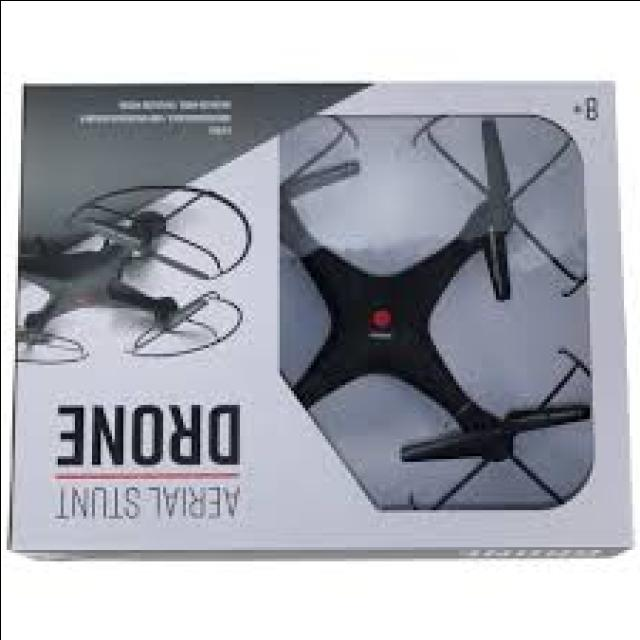drone: (212, 108, 598, 523), (6, 178, 252, 380)
